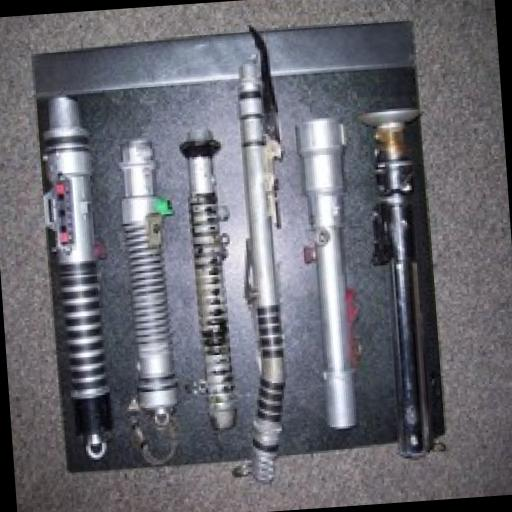lightsaber: (196, 38, 308, 484), (358, 96, 452, 459), (34, 90, 116, 458), (292, 104, 372, 438), (113, 140, 185, 423), (178, 124, 243, 432)
